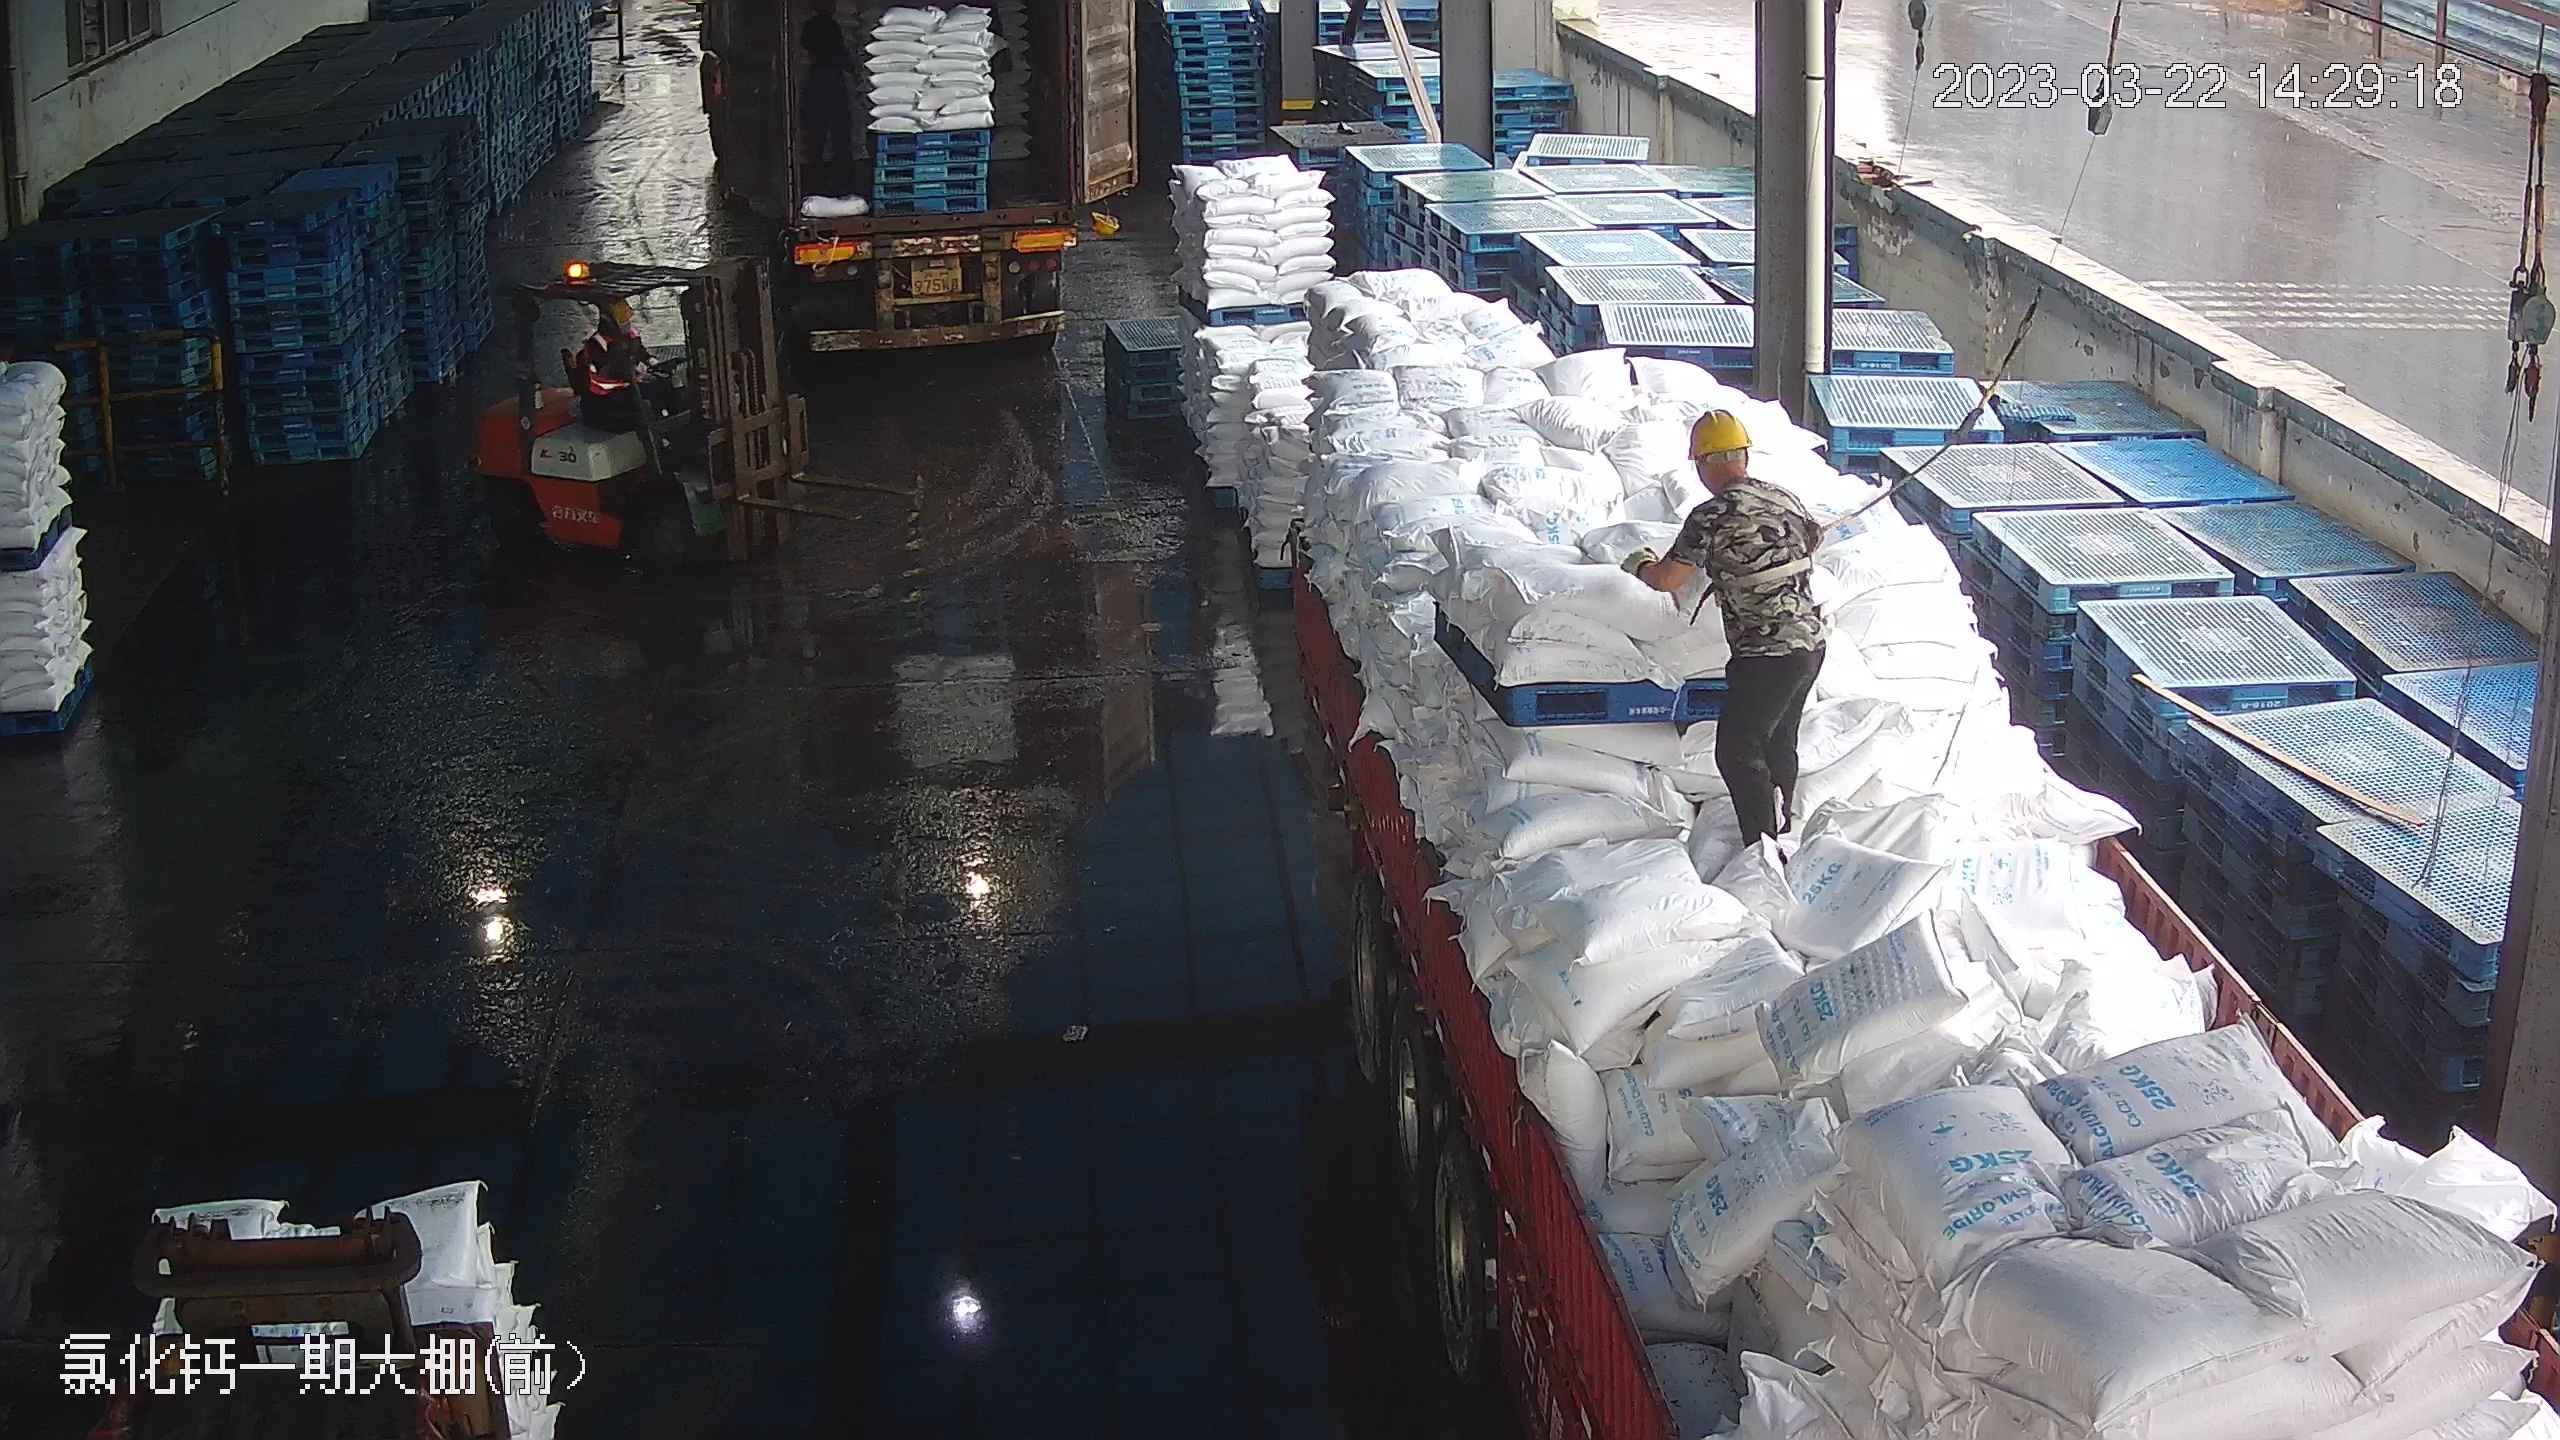belt: (1725, 477, 1835, 587)
head: (1675, 407, 1807, 535), (586, 293, 646, 359)
helmet: (1680, 406, 1753, 456), (600, 294, 635, 321)
people: (1622, 405, 1829, 866)
truck: (1236, 86, 2536, 1440), (733, 1, 1122, 346)
